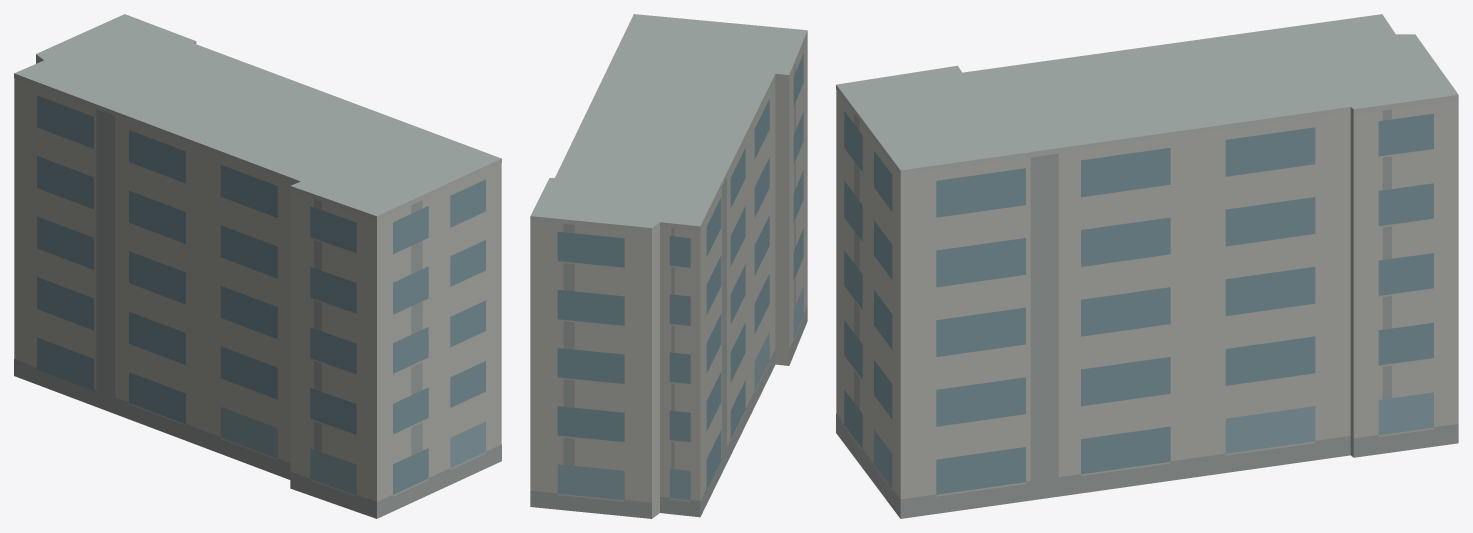
The model's file is survey-upis-33005948.glb.
3 views of the same model, side by side, from view 1: azimuth 30°, elevation 25°; view 2: azimuth 150°, elevation 25°; view 3: azimuth 270°, elevation 25° (orthographic). The views are drawn at different scales.
Visible parts, largest first — view 1: survey-upis-33005948.tmp; view 2: survey-upis-33005948.tmp; view 3: survey-upis-33005948.tmp.
Boxes of the visible parts, x1,y1,x2,y2 form: survey-upis-33005948.tmp: (14, 14, 501, 518); survey-upis-33005948.tmp: (530, 14, 807, 518); survey-upis-33005948.tmp: (836, 14, 1458, 518).
Bounding box in the file's own units: 15.13 × 15.7 × 25.43.
